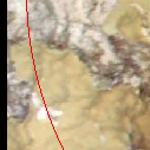alive: (7, 1, 146, 148)
